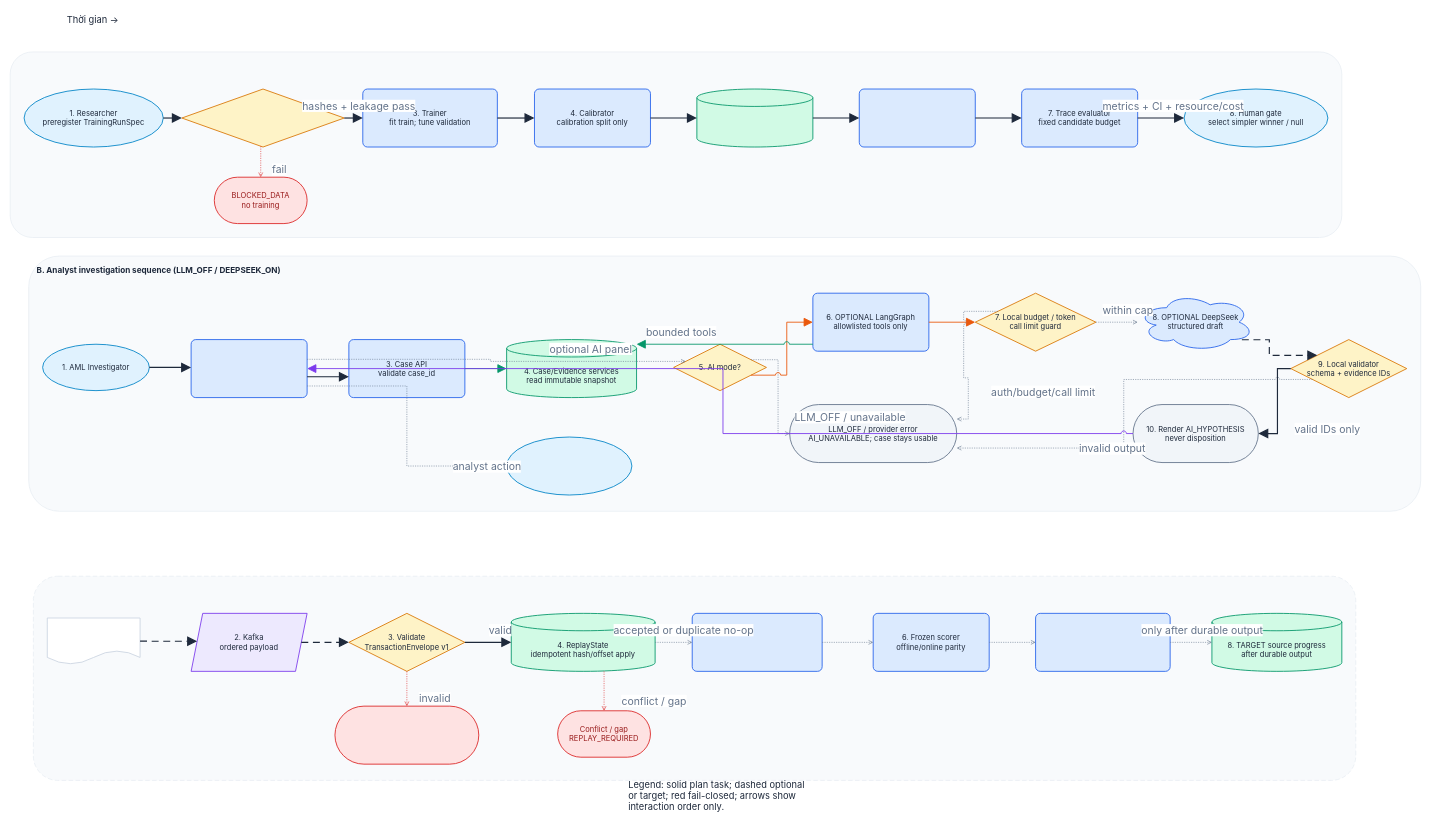
Image size: 1431x823. Some labels were removed from this diagram. The shapes that lost their labels are listed below. From the top down, each one's box as (x1, y1, x2, y2) in pixels, then its label:
(181, 88, 344, 147): 2. Data guard verify data/split/feature hashes
(696, 88, 813, 147): 5. Model packager freeze + hash
(859, 88, 975, 147): 6. Evaluator untouched test once
(10, 51, 1342, 238): A. Offline training sequence
(190, 339, 307, 398): 2. Workbench request case
(506, 436, 632, 495): 11. TARGET disposition / append-only feedback API
(47, 617, 140, 665): 1. Replay source
(692, 613, 822, 672): 5. TARGET graph + feature state update
(1035, 613, 1170, 672): 7. TARGET trace + evidence + durable case output
(33, 576, 1356, 780): C. Later streaming replay sequence
(334, 705, 479, 764): INVALID_SCHEMA quarantine; no state advance
